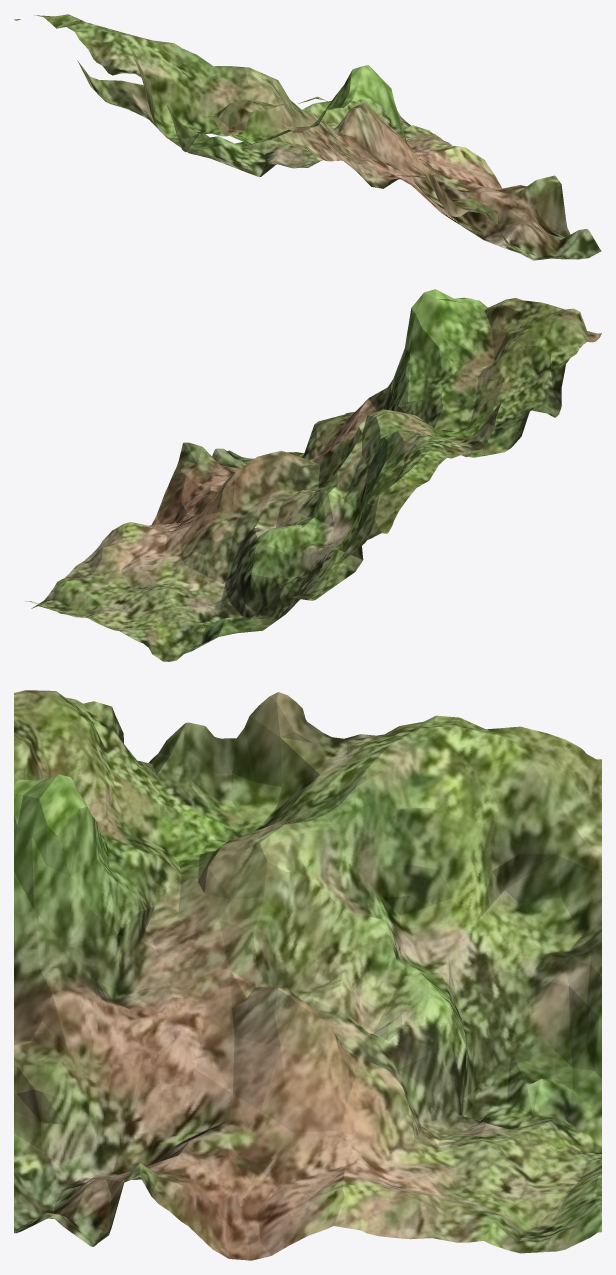
3 views of the same model, one above another, from view 1: azimuth 30°, elevation 25°; view 2: azimuth 150°, elevation 25°; view 3: azimuth 270°, elevation 25° (orthographic). The views are drawn at different scales.
Size of the model in its own units: 2.95 by 1.87 by 2.95.
Materials: 3 (3 with a texture image).
